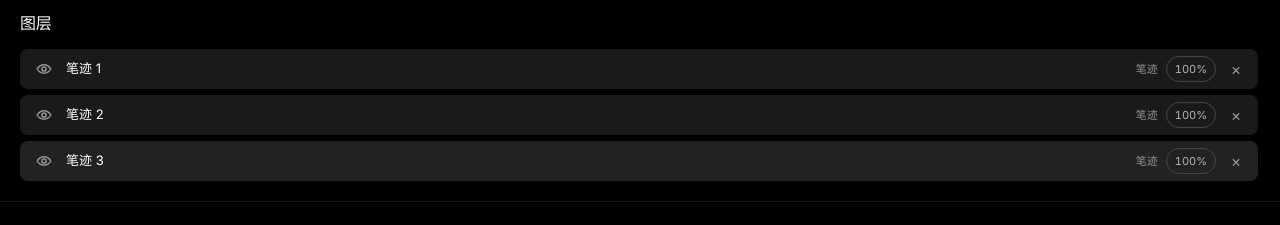
删除恢复条 › 连续删除只保留最近一条恢复条
The image size is (1280, 225).
Click the button named "删除 笔迹 3" at (1236, 161), box x1=1224 y1=149 x2=1248 y2=173
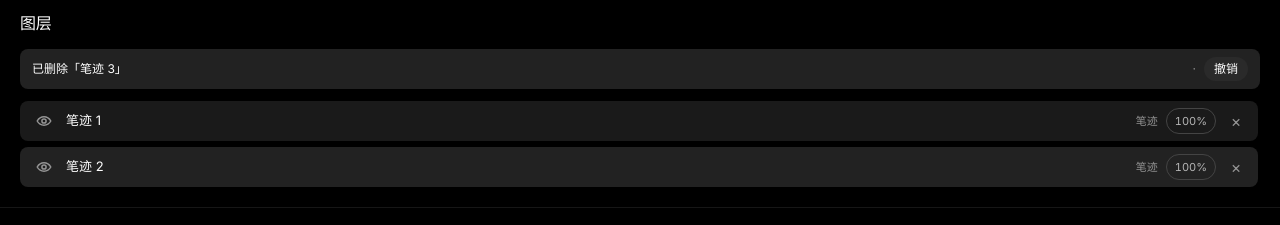
Expected: the message shows "已删除「笔迹 3」", x1=20 y1=49 x2=1260 y2=89
Click the button named "删除 笔迹 2" at (1236, 167), box x1=1224 y1=155 x2=1248 y2=179
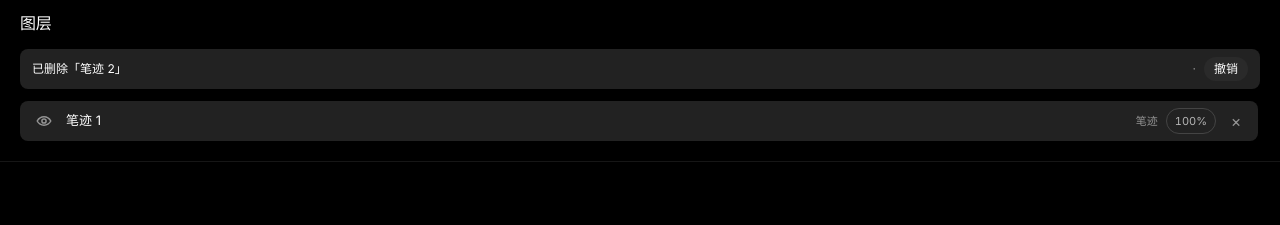
Expected: the number of messages is 1, x1=20 y1=49 x2=1260 y2=89
Expected: the message shows "已删除「笔迹 2」", x1=20 y1=49 x2=1260 y2=89
Expected: the text "已删除「笔迹 3」" is gone
